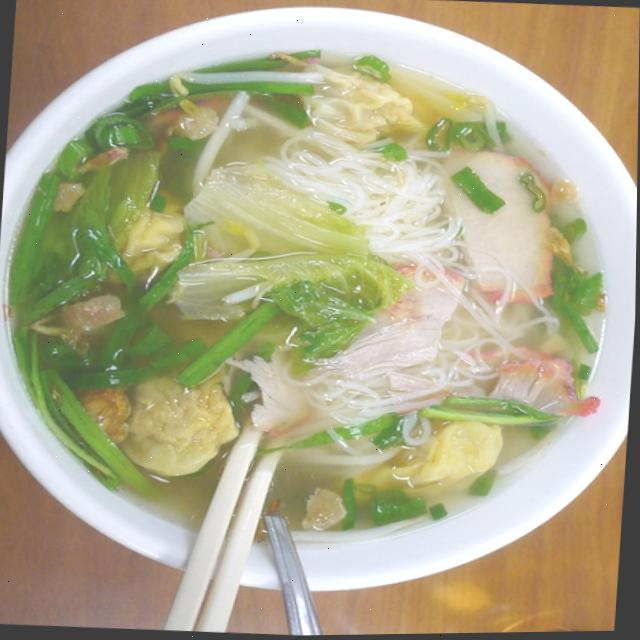汤锅炖物: (0, 17, 637, 590)
